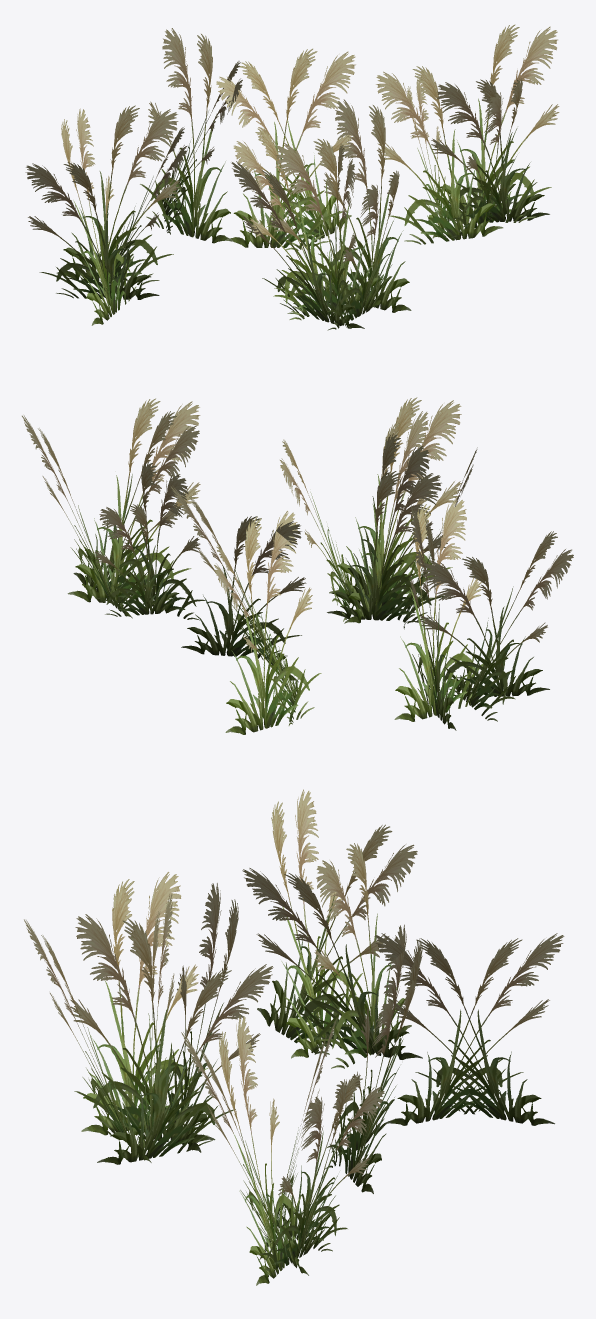
Rendered from wlf_cao02_z.FBX.
The picture shows the model from 3 angles, top to bottom: view 1: azimuth 30°, elevation 25°; view 2: azimuth 150°, elevation 25°; view 3: azimuth 270°, elevation 25°; orthographic projection. The views are drawn at different scales.
Parts seen in each view (by area): view 1: wlf_cao02_z; view 2: wlf_cao02_z; view 3: wlf_cao02_z.
Part boxes in pixels (box(x1,y1,x2,y2)): wlf_cao02_z: box(25, 24, 559, 330); wlf_cao02_z: box(22, 397, 573, 734); wlf_cao02_z: box(24, 789, 564, 1285).
Size of the model in its own units: 310 by 99.04 by 224.
1 material, 1 textured.
